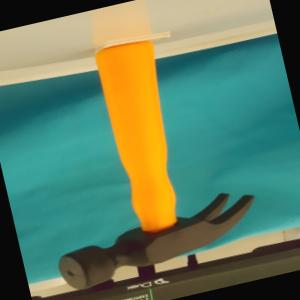martelo: (8, 20, 267, 294)
